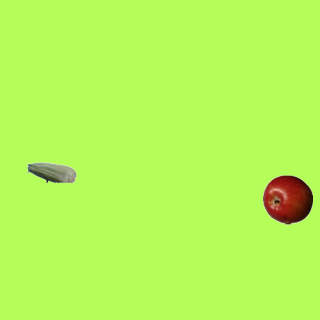Apple Braeburn: (262, 174, 312, 224)
Corn Husk: (26, 147, 76, 197)
